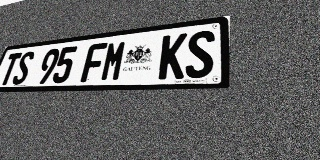5: (51, 46, 78, 83)
9: (35, 48, 61, 84)
F: (80, 42, 108, 82)
K: (158, 33, 187, 79)
M: (99, 40, 128, 82)
S: (185, 30, 215, 79), (11, 51, 36, 85)
T: (0, 52, 22, 85)
